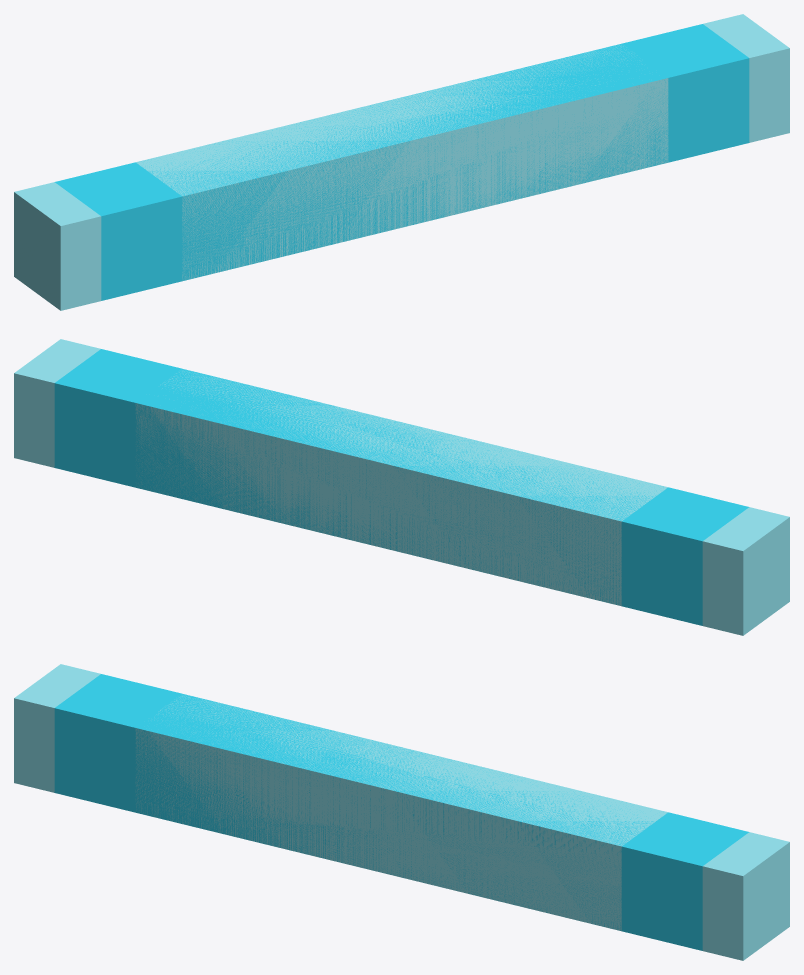
Rendered from fx_laser_beam.glb.
The picture shows the model from 3 angles, top to bottom: view 1: azimuth 30°, elevation 25°; view 2: azimuth 150°, elevation 25°; view 3: azimuth 330°, elevation 25°; orthographic projection.
Parts seen in each view (by area): view 1: Beam mesh, Core mesh, Tip mesh; view 2: Beam mesh, Core mesh, Tip mesh; view 3: Core mesh, Beam mesh, Tip mesh.
Part boxes in pixels (x1,y1,x2,y2): Beam mesh: [55, 24, 749, 300]; Core mesh: [136, 45, 668, 280]; Tip mesh: [14, 14, 789, 310]; Beam mesh: [54, 349, 748, 625]; Core mesh: [135, 368, 667, 606]; Tip mesh: [14, 339, 789, 635]; Core mesh: [135, 693, 667, 931]; Beam mesh: [54, 674, 748, 950]; Tip mesh: [14, 664, 789, 960].
Bounding box in the file's own units: 18 × 2 × 2.
1 material, 1 textured.
